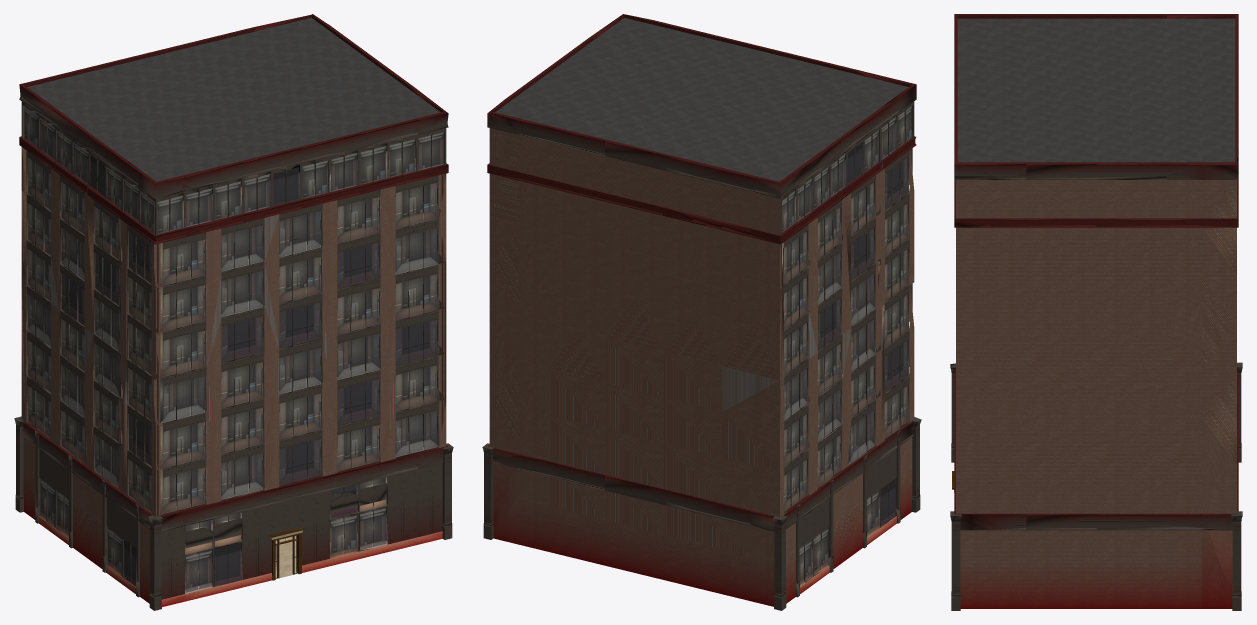
Rendered from la-building-large-lod.glb.
The picture shows the model from 3 angles, left to right: view 1: azimuth 30°, elevation 25°; view 2: azimuth 150°, elevation 25°; view 3: azimuth 270°, elevation 25°; orthographic projection. The views are drawn at different scales.
Parts seen in each view (by area): view 1: Building_Large_2; view 2: Building_Large_2; view 3: Building_Large_2.
Part boxes in pixels (box(x1,y1,x2,y2)): Building_Large_2: box(14, 14, 453, 610); Building_Large_2: box(482, 14, 921, 610); Building_Large_2: box(950, 14, 1242, 610).
Size of the model in its own units: 20.64 by 28 by 16.64.
Materials: 9 (8 with a texture image).
